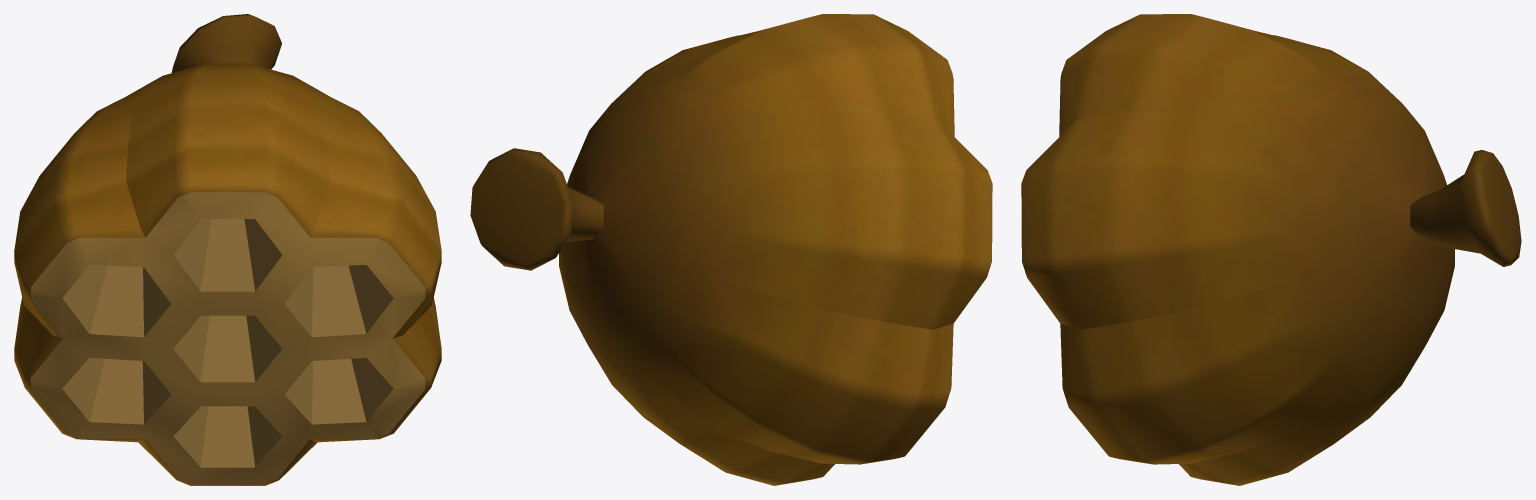
The model's file is Wasp Nest.glb.
The picture shows the model from 3 angles, left to right: view 1: azimuth 30°, elevation 25°; view 2: azimuth 150°, elevation 25°; view 3: azimuth 270°, elevation 25°; orthographic projection. The views are drawn at different scales.
Parts seen in each view (by area): view 1: node_id5; view 2: node_id5; view 3: node_id5.
Boxes of the visible parts, bbox=[...] form: node_id5: bbox=[14, 14, 441, 485]; node_id5: bbox=[470, 14, 992, 485]; node_id5: bbox=[1021, 14, 1521, 485].
Bounding box in the file's own units: 0.4864 × 0.4889 × 0.5221.
1 material, 1 textured.
